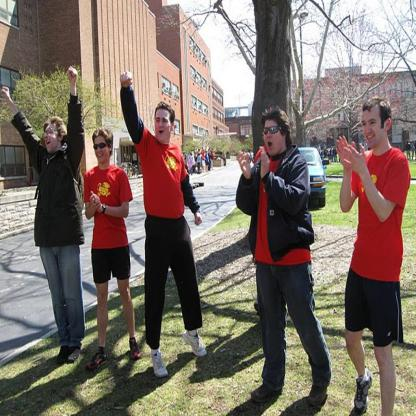face: (362, 111, 385, 148), (265, 121, 283, 155), (156, 111, 172, 141), (95, 138, 110, 163), (45, 127, 59, 152)
